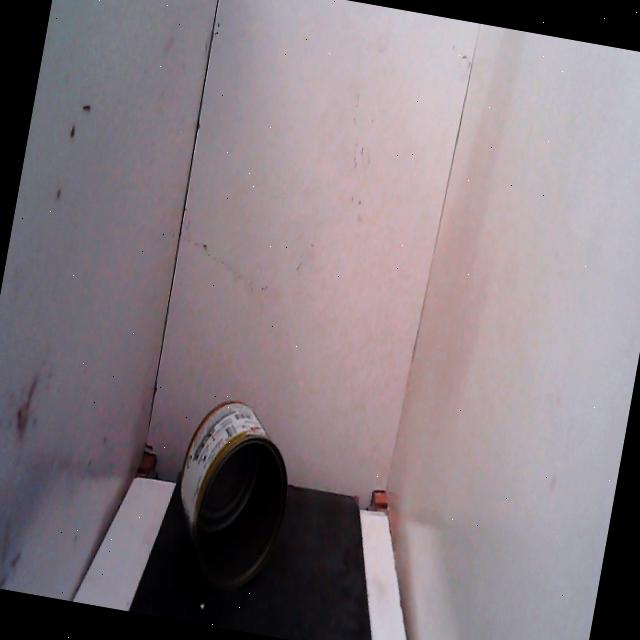metal: (144, 376, 316, 622)
